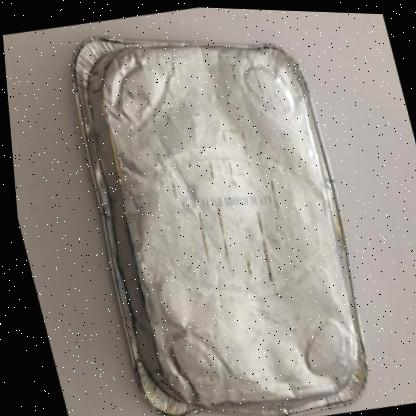Metal: (69, 36, 360, 416)
